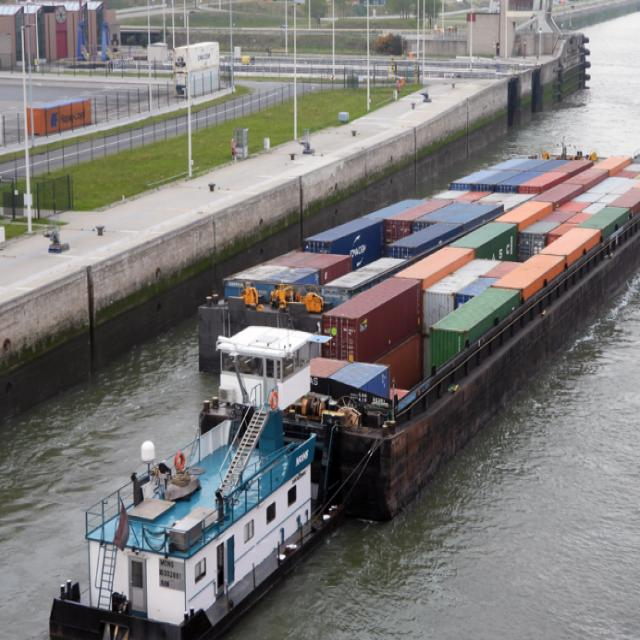tugboat: (46, 320, 357, 640)
